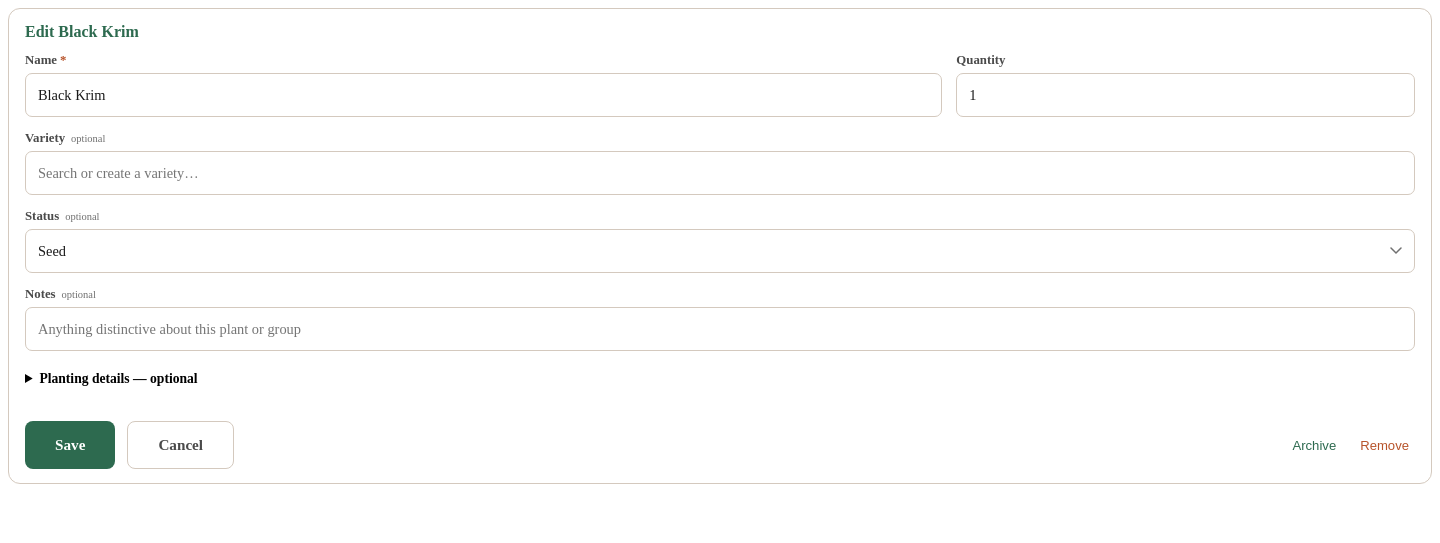
Test: PlantingEditor Remove — a failure does not render as a success › names the removal and the state the planting is left in
This screenshot has width=1440, height=543.
Click the button "Remove": (1385, 445) [1354, 421, 1415, 469]
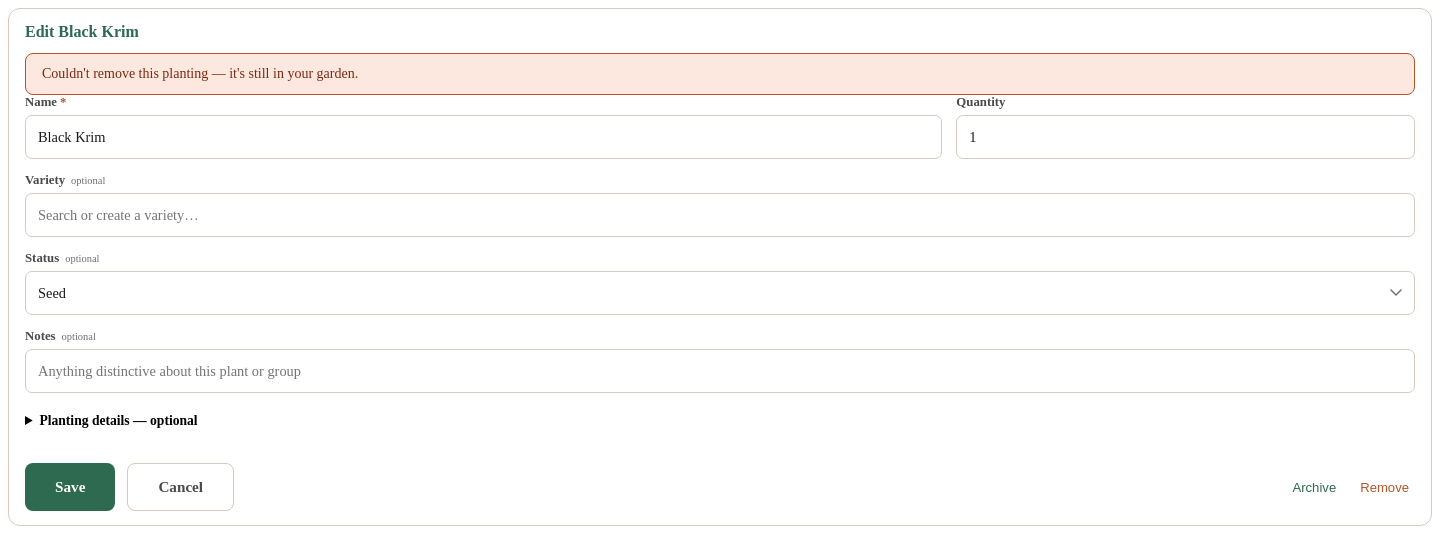
expect the message does not show "archive": met
expect the message shows "Couldn't remove this planting": met, box [42, 66, 358, 81]
expect the message shows "still in your garden": met, box [42, 66, 358, 81]
